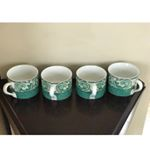cups: (2, 63, 39, 102), (107, 60, 144, 98), (40, 62, 73, 103), (74, 62, 108, 101)
